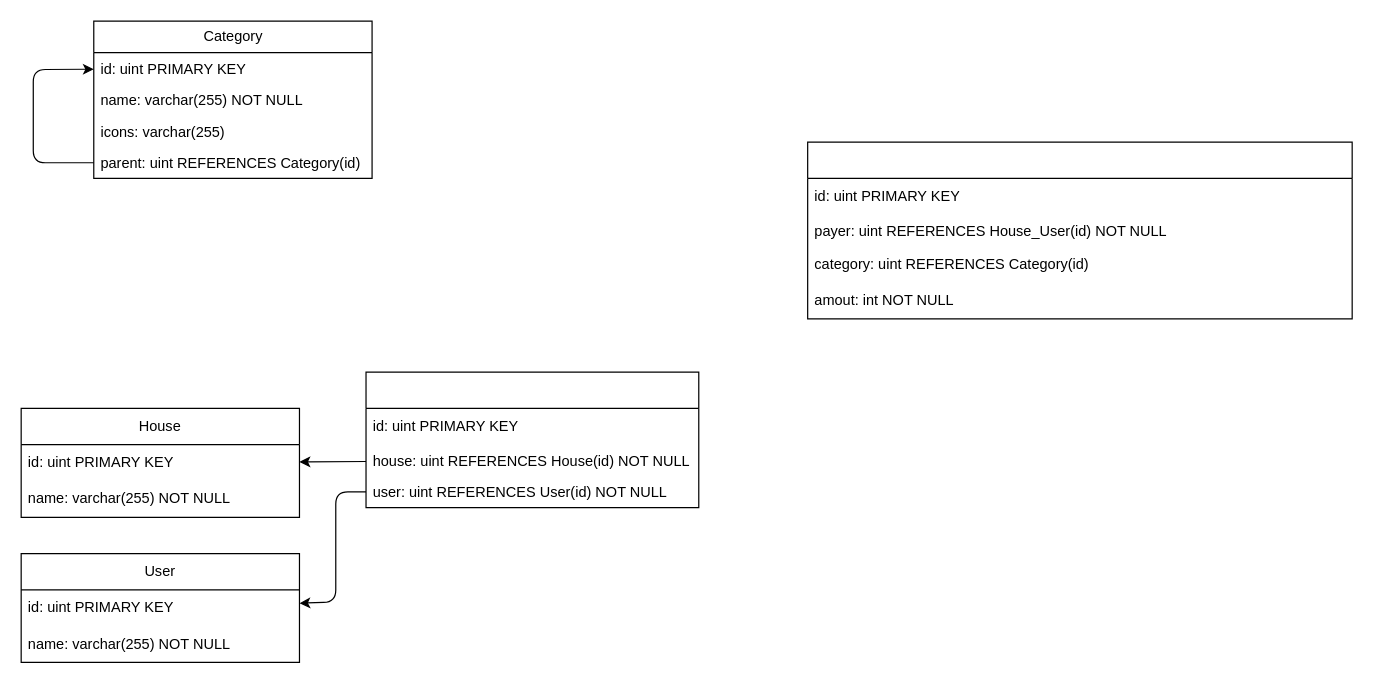
Some shapes in this 1373 by 684 pixel diagram are drawn without their labels. The shapes that lost their labels are listed below. From the top down, each one's box as (x1, y1, x2, y2) in pixels, then its label:
(806, 141, 1352, 319): Transaction
(365, 371, 699, 508): House_User
